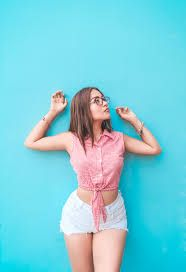no-mask: (70, 86, 118, 124)
